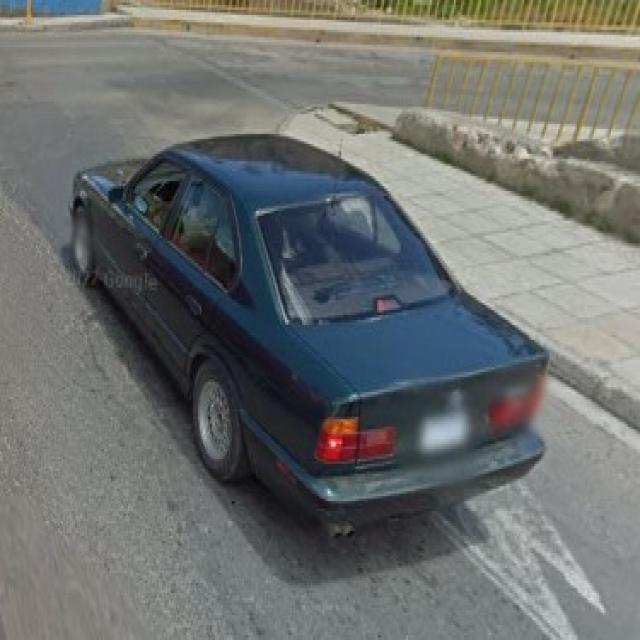cars: (74, 78, 552, 526)
